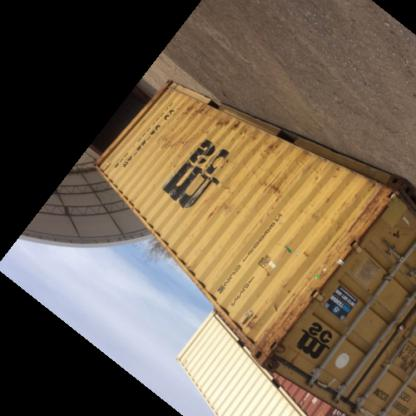Damage: (240, 308, 312, 366), (344, 184, 403, 254), (212, 115, 264, 142), (250, 174, 290, 206), (155, 130, 193, 160), (196, 196, 236, 220), (177, 98, 205, 119), (258, 260, 270, 284)
